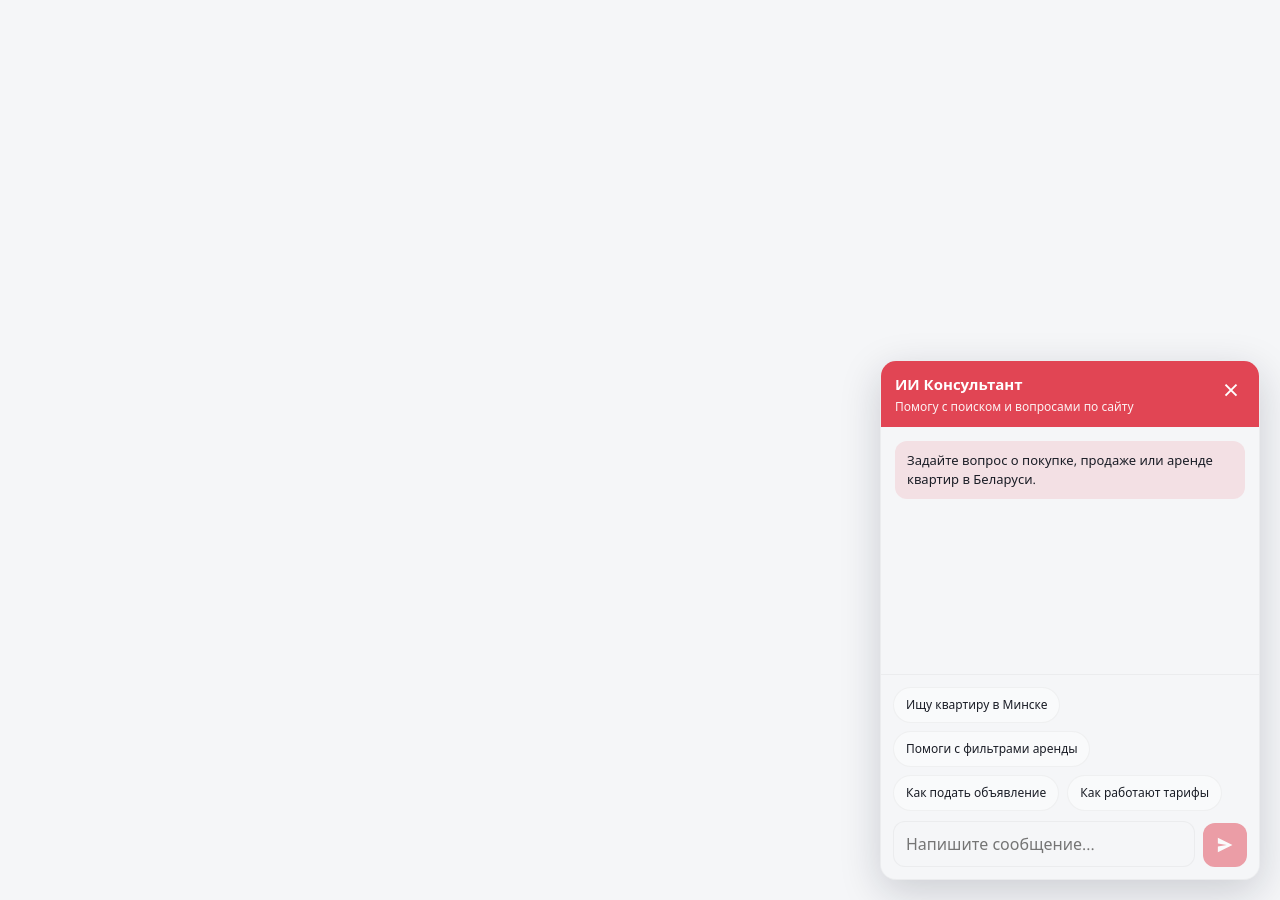
AiChatWidget › sends message and shows assistant reply
Type "Ищу квартиру в Минске" into the text box with id "ai-chat-input" at (1044, 844), box [893, 821, 1195, 867]
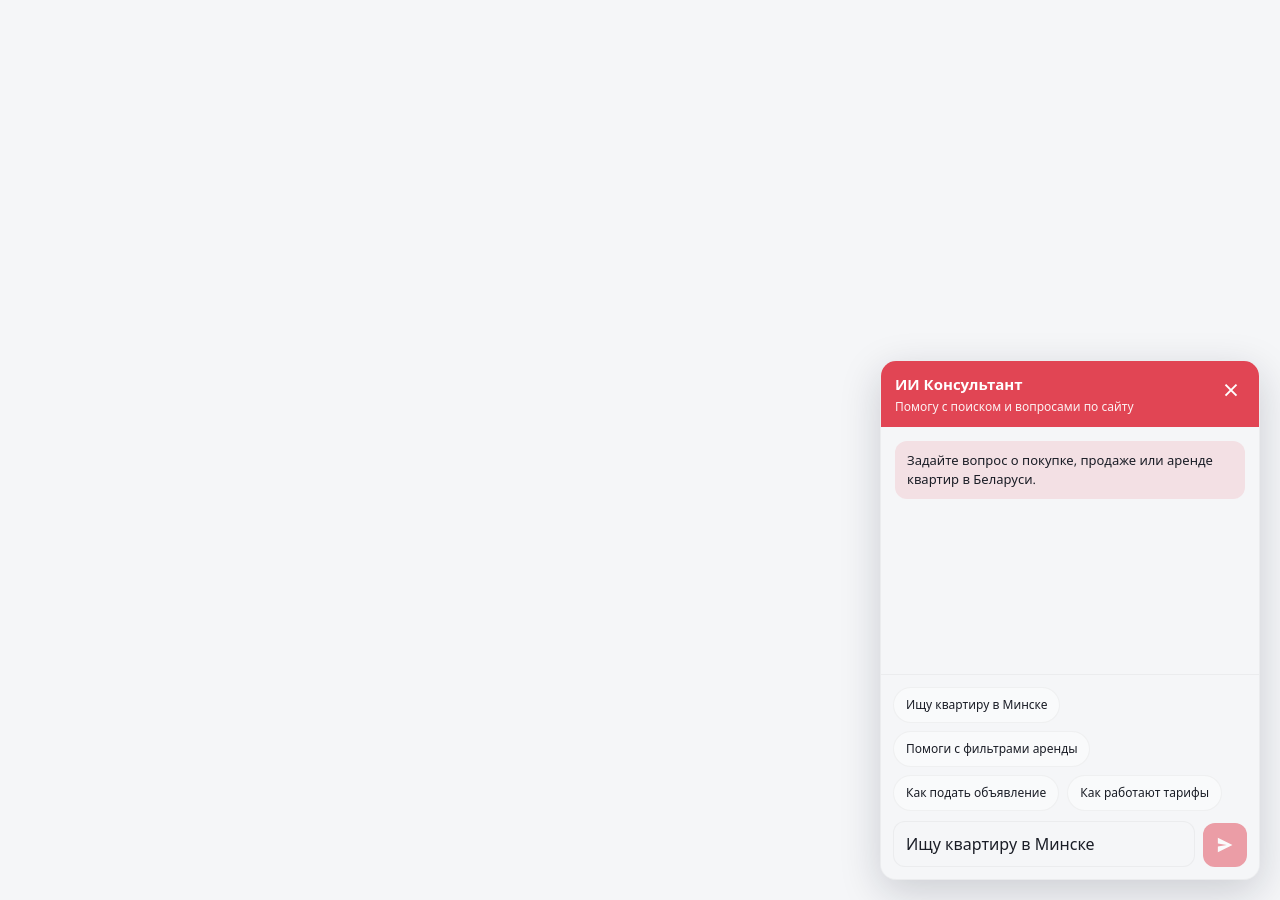
Submit the form with class "ai-chat__composer", box [893, 821, 1247, 867]
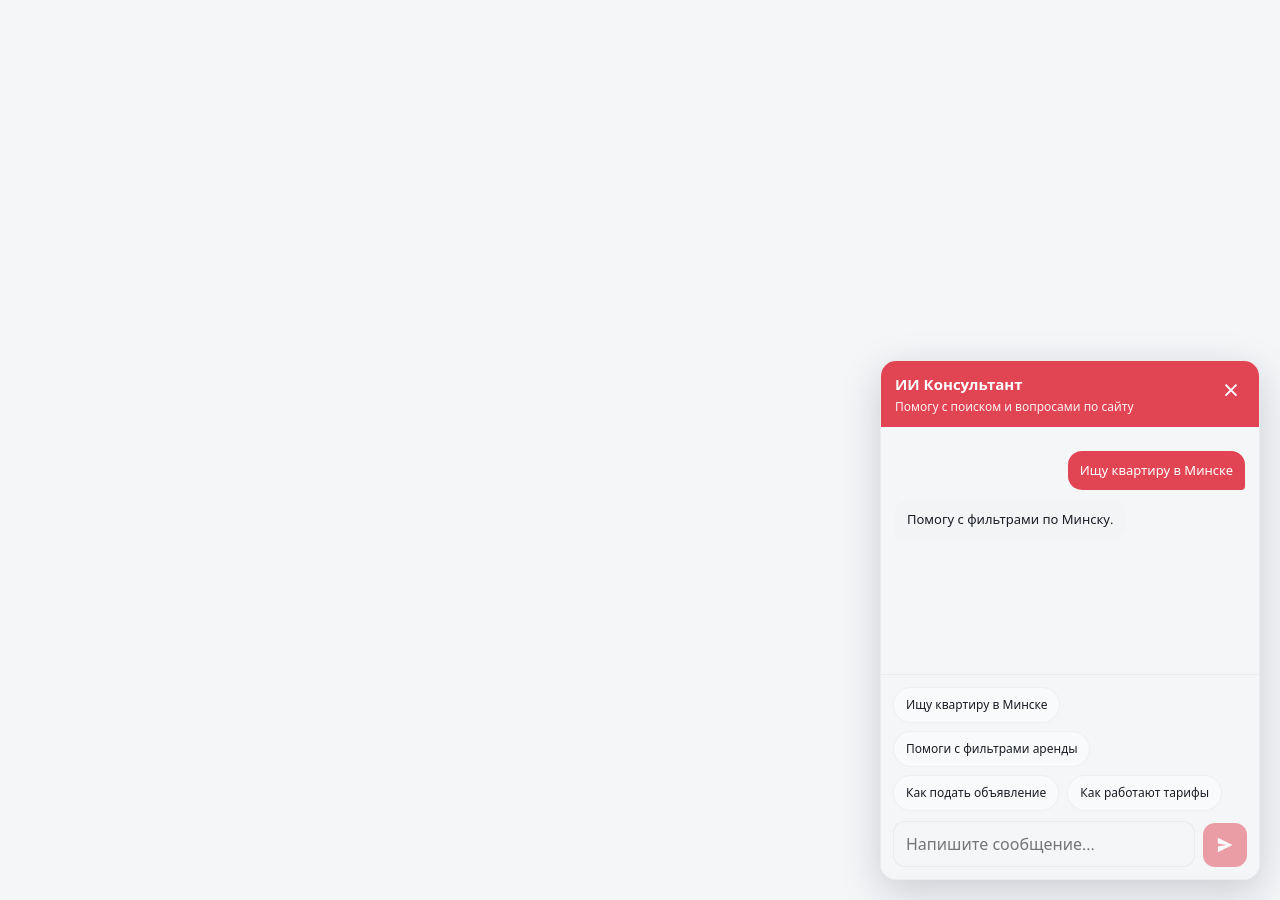
Expected: the text "Помогу с фильтрами по Минску." is shown, [895, 500, 1125, 539]
